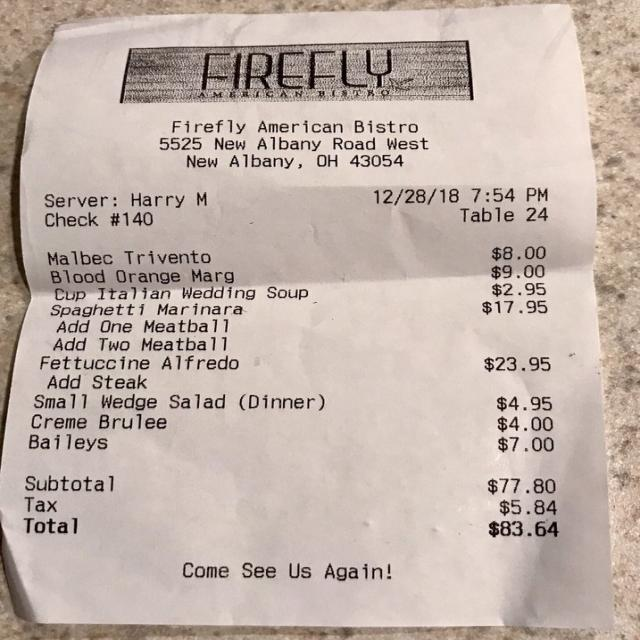TotalPrice: (16, 510, 574, 544)
